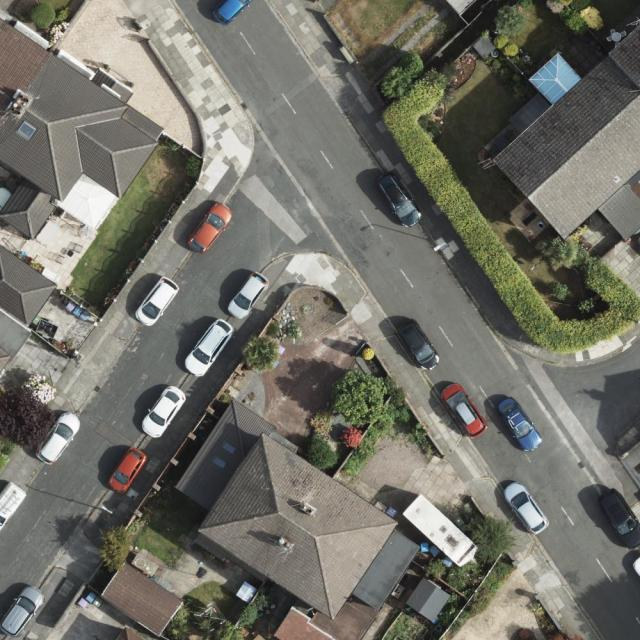roof: (178, 398, 424, 640), (0, 16, 168, 238), (492, 20, 640, 242), (0, 243, 60, 375), (100, 561, 186, 640)
skylight: (12, 116, 39, 142), (220, 439, 238, 456), (209, 454, 228, 469)
